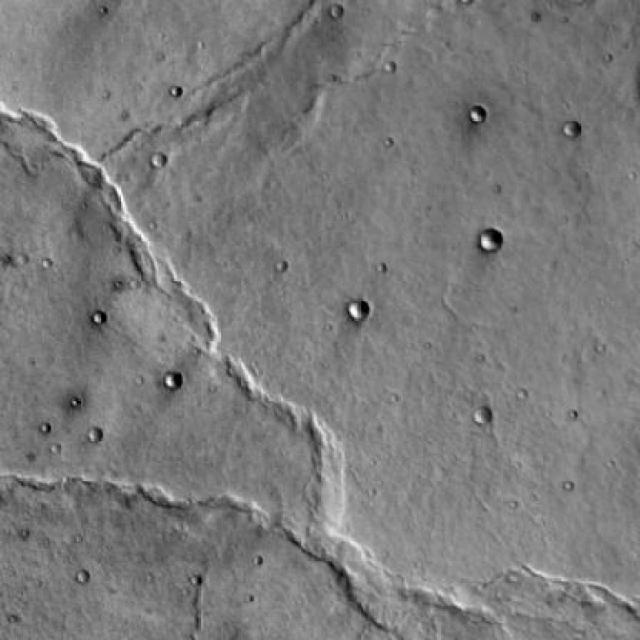crater: (478, 228, 500, 250), (348, 302, 369, 322), (472, 408, 490, 424), (559, 122, 576, 138), (464, 108, 481, 123)
